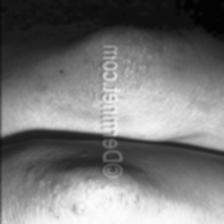Non-Cancerous Skin Condition: (30, 181, 198, 224), (10, 151, 97, 224), (121, 34, 204, 102)
